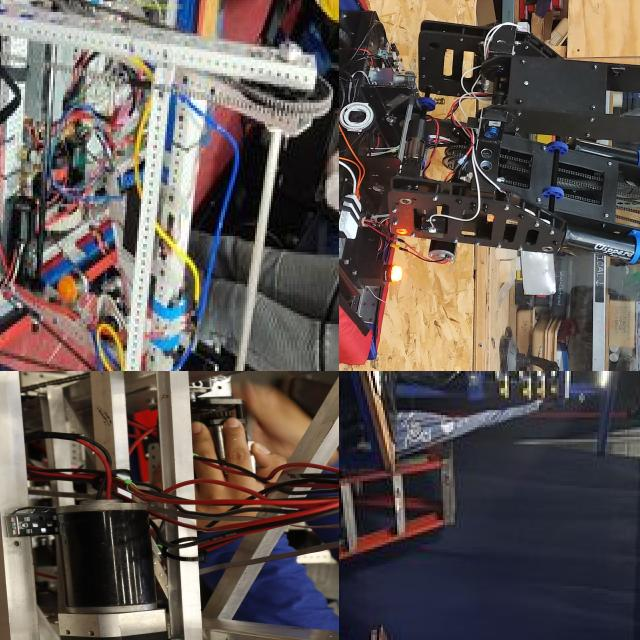FRC-Robots: (0, 0, 335, 371), (339, 0, 640, 371), (0, 371, 339, 640), (339, 555, 587, 640)
